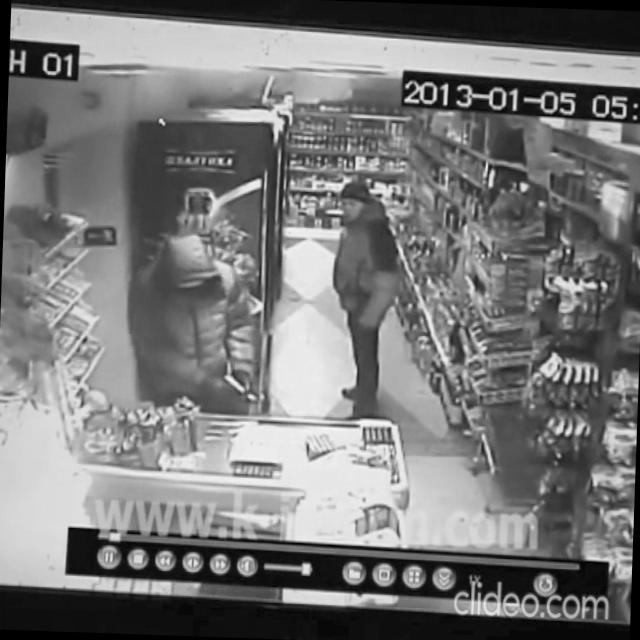gun: (222, 371, 260, 405)
person: (326, 178, 404, 420)
person with a gun: (124, 230, 266, 414)
